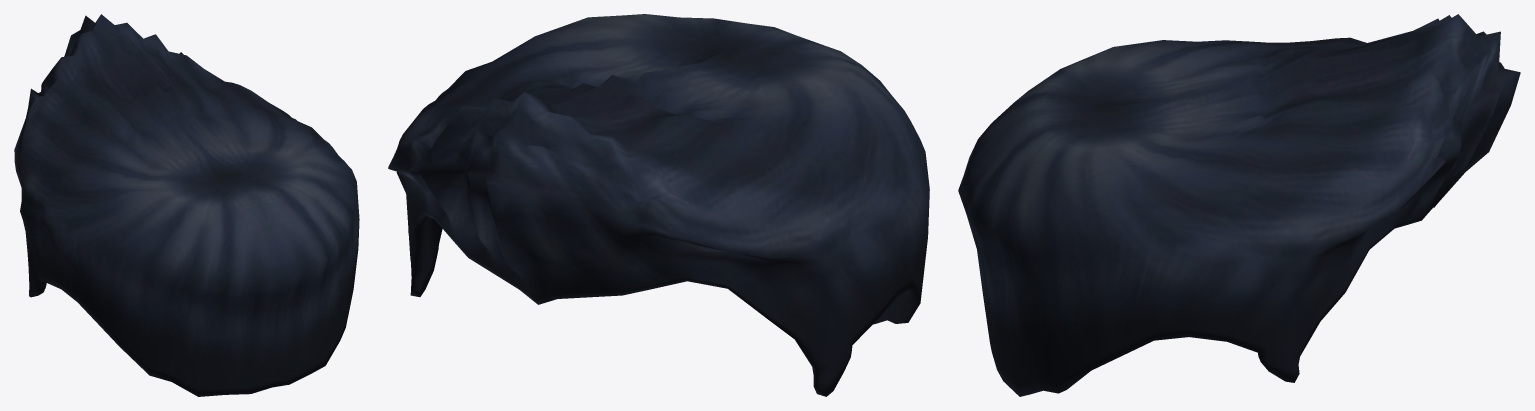
The model's file is acc.glb.
The picture shows the model from 3 angles, left to right: view 1: azimuth 30°, elevation 25°; view 2: azimuth 150°, elevation 25°; view 3: azimuth 270°, elevation 25°; orthographic projection. The views are drawn at different scales.
Parts seen in each view (by area): view 1: Handle; view 2: Handle; view 3: Handle.
Boxes of the visible parts, x1,y1,x2,y2 form: Handle: [14, 14, 359, 396]; Handle: [388, 14, 929, 396]; Handle: [958, 14, 1520, 396].
Size of the model in its own units: 1.3 by 1.07 by 1.59.
1 material, 1 textured.
